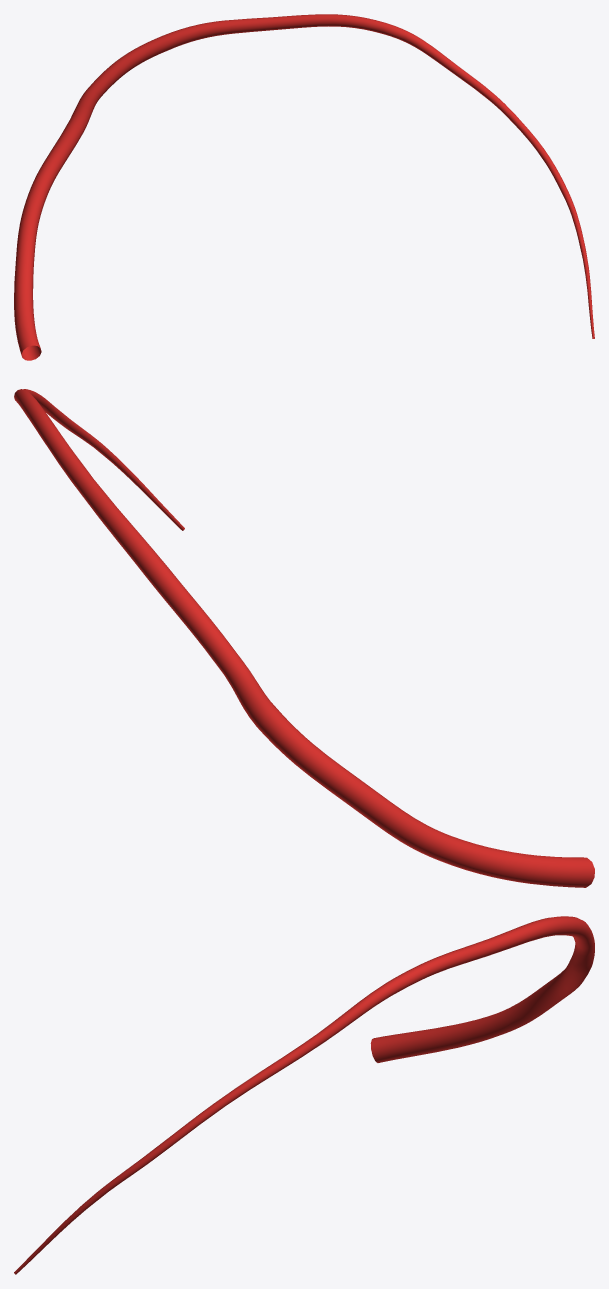
The model's file is circulatorio-iliolumbar-vein-l.glb.
3 views of the same model, one above another, from view 1: azimuth 30°, elevation 25°; view 2: azimuth 150°, elevation 25°; view 3: azimuth 270°, elevation 25° (orthographic). The views are drawn at different scales.
Parts seen in each view (by area): view 1: Iliolumbar vein.l; view 2: Iliolumbar vein.l; view 3: Iliolumbar vein.l.
Boxes of the visible parts, box(x1,y1,x2,y2) form: Iliolumbar vein.l: box(14, 14, 594, 360); Iliolumbar vein.l: box(14, 389, 594, 887); Iliolumbar vein.l: box(14, 916, 594, 1274).
Size of the model in its own units: 0.0992 by 0.052 by 0.0904.
